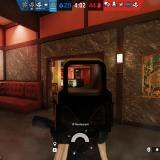Character: (77, 76, 80, 79)
Friend_label: (50, 58, 54, 64)
